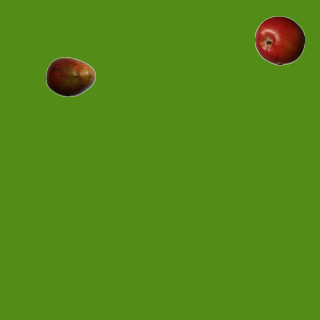Apple Braeburn: (254, 15, 304, 65)
Mango Red: (45, 51, 95, 101)
